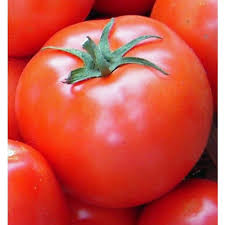tomato: (23, 6, 198, 205)
